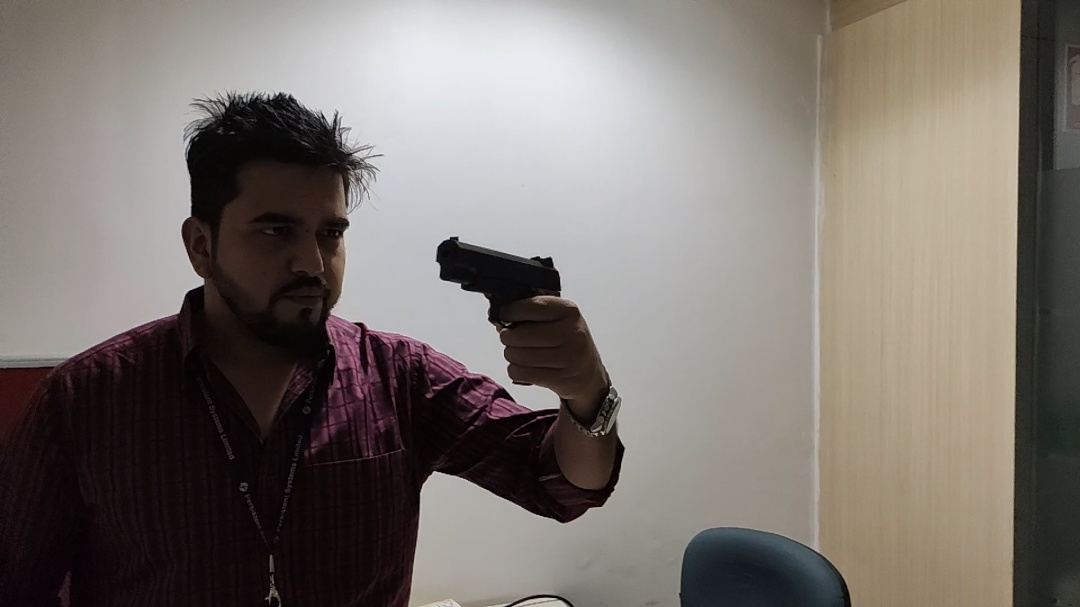gun: (209, 78, 734, 529)
